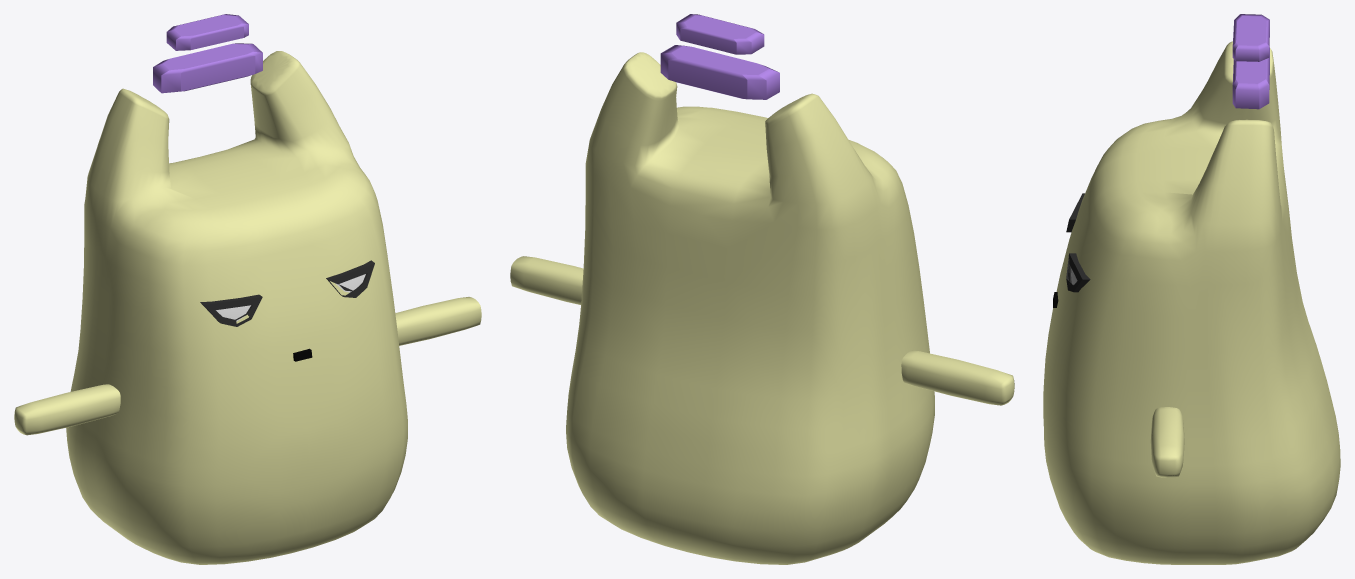
The model's file is alienBuddy_noHover.fbx.
The picture shows the model from 3 angles, left to right: view 1: azimuth 30°, elevation 25°; view 2: azimuth 150°, elevation 25°; view 3: azimuth 270°, elevation 25°; orthographic projection. The views are drawn at different scales.
Parts seen in each view (by area): view 1: polySurface50; view 2: polySurface50; view 3: polySurface50.
Part boxes in pixels (bbox=[...]): polySurface50: bbox=[14, 14, 481, 564]; polySurface50: bbox=[510, 14, 1014, 564]; polySurface50: bbox=[1043, 14, 1340, 564].
Bounding box in the file's own units: 192 × 190 × 104.
